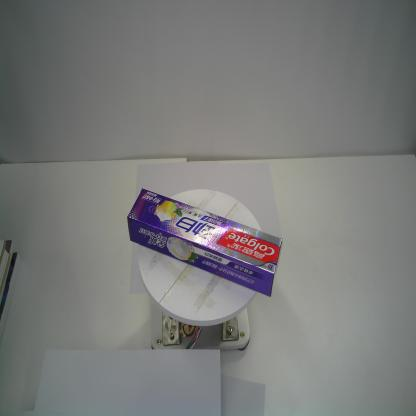Personal Hygiene: (127, 188, 282, 298)
